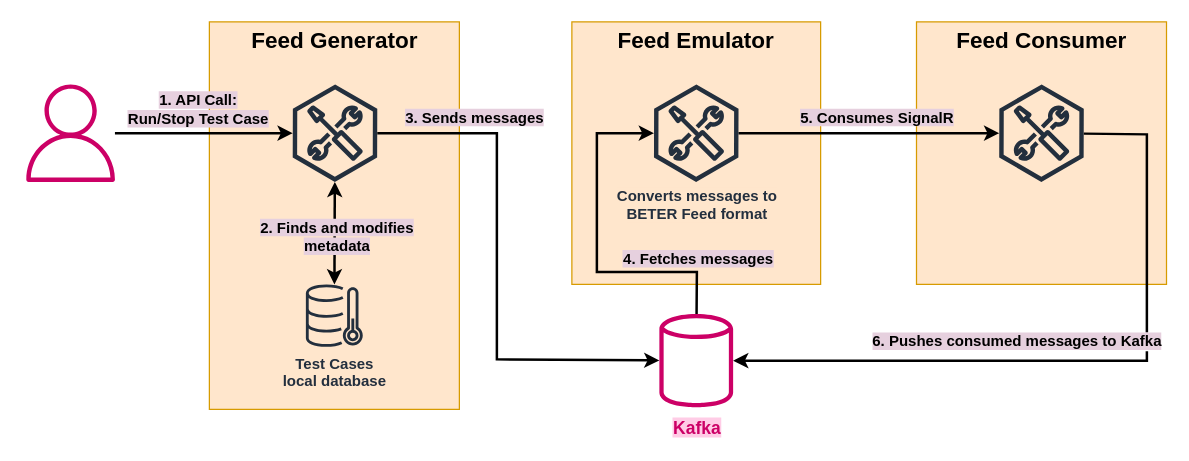
The diagram is 1189 pixels wide and 461 high, and some of its shapes have lost their labels. The shapes that lost their labels are listed below. From the top down, each one's centre as x and y in pixels, then its label:
At (x=70, y=132): "API client".
At (x=1040, y=132): "Consumes all Feed Channels".
